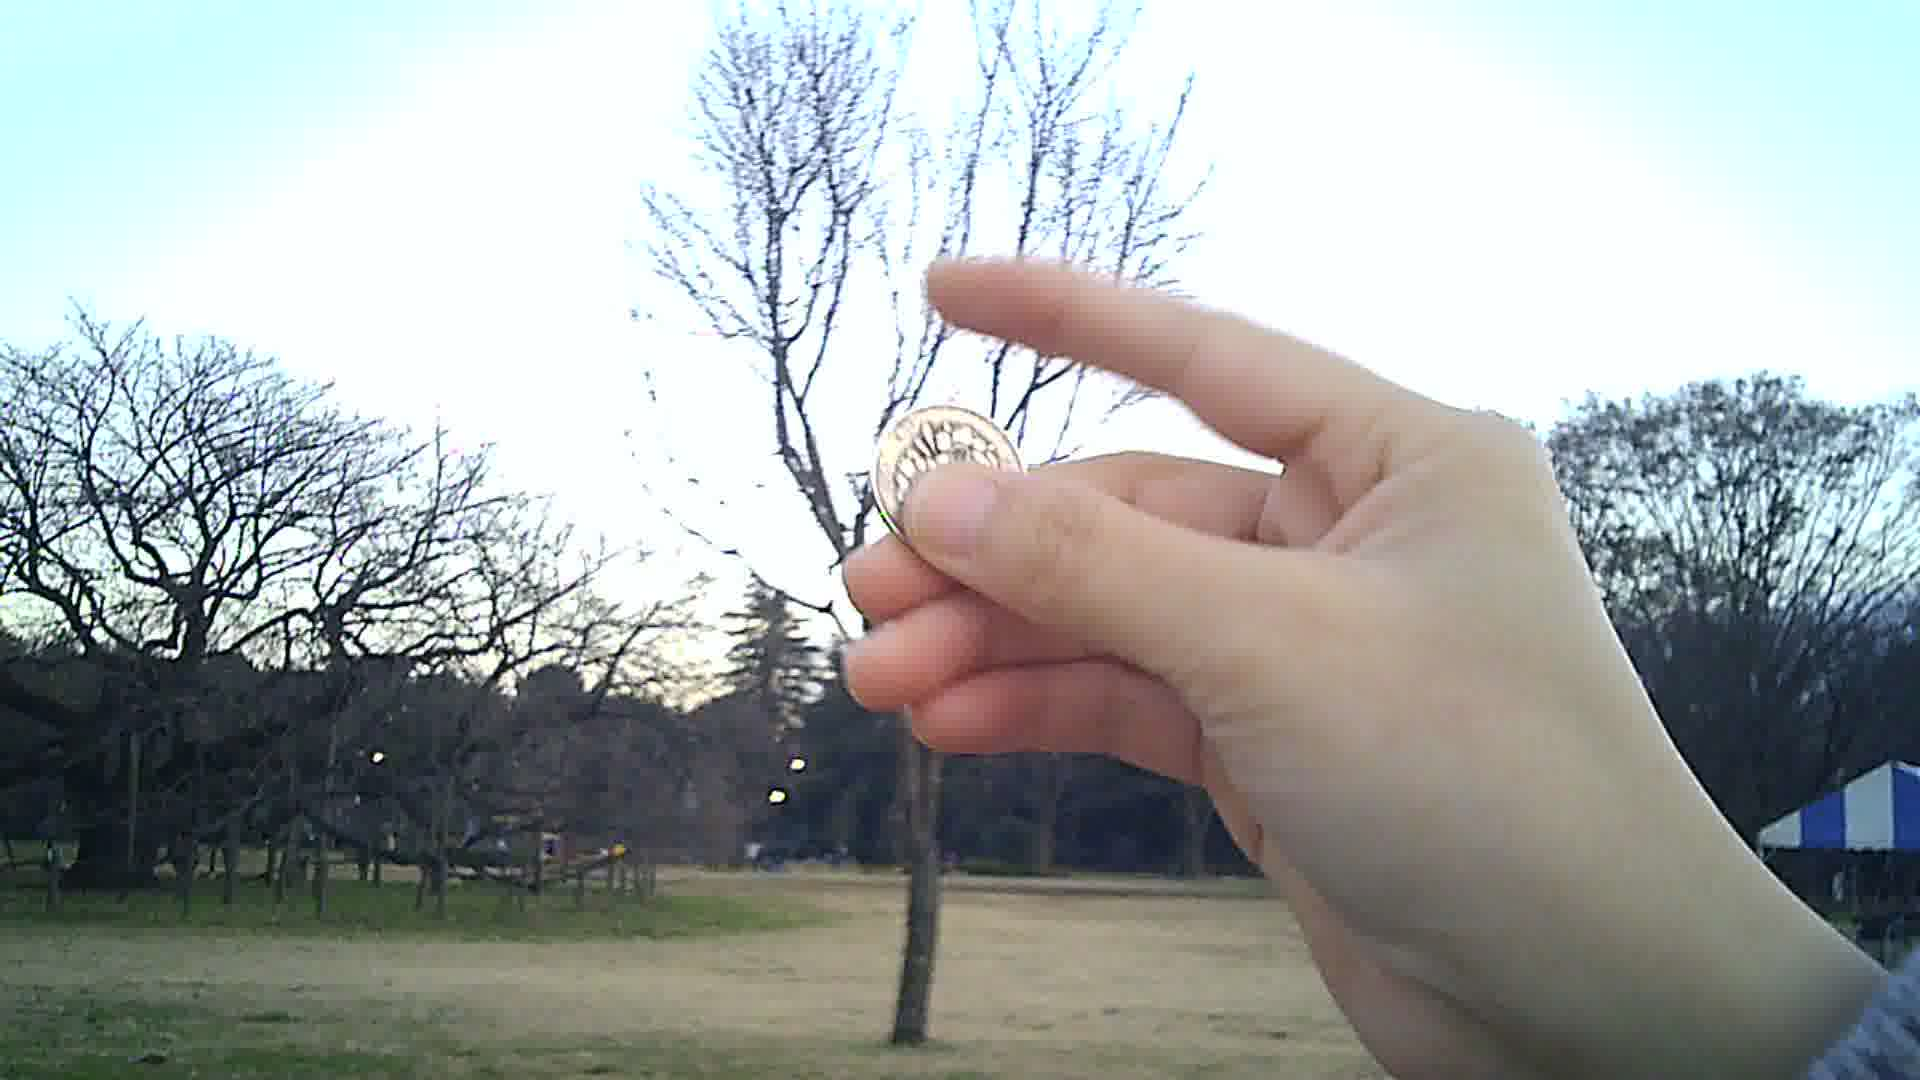100 Yen: (874, 404, 1029, 549)
